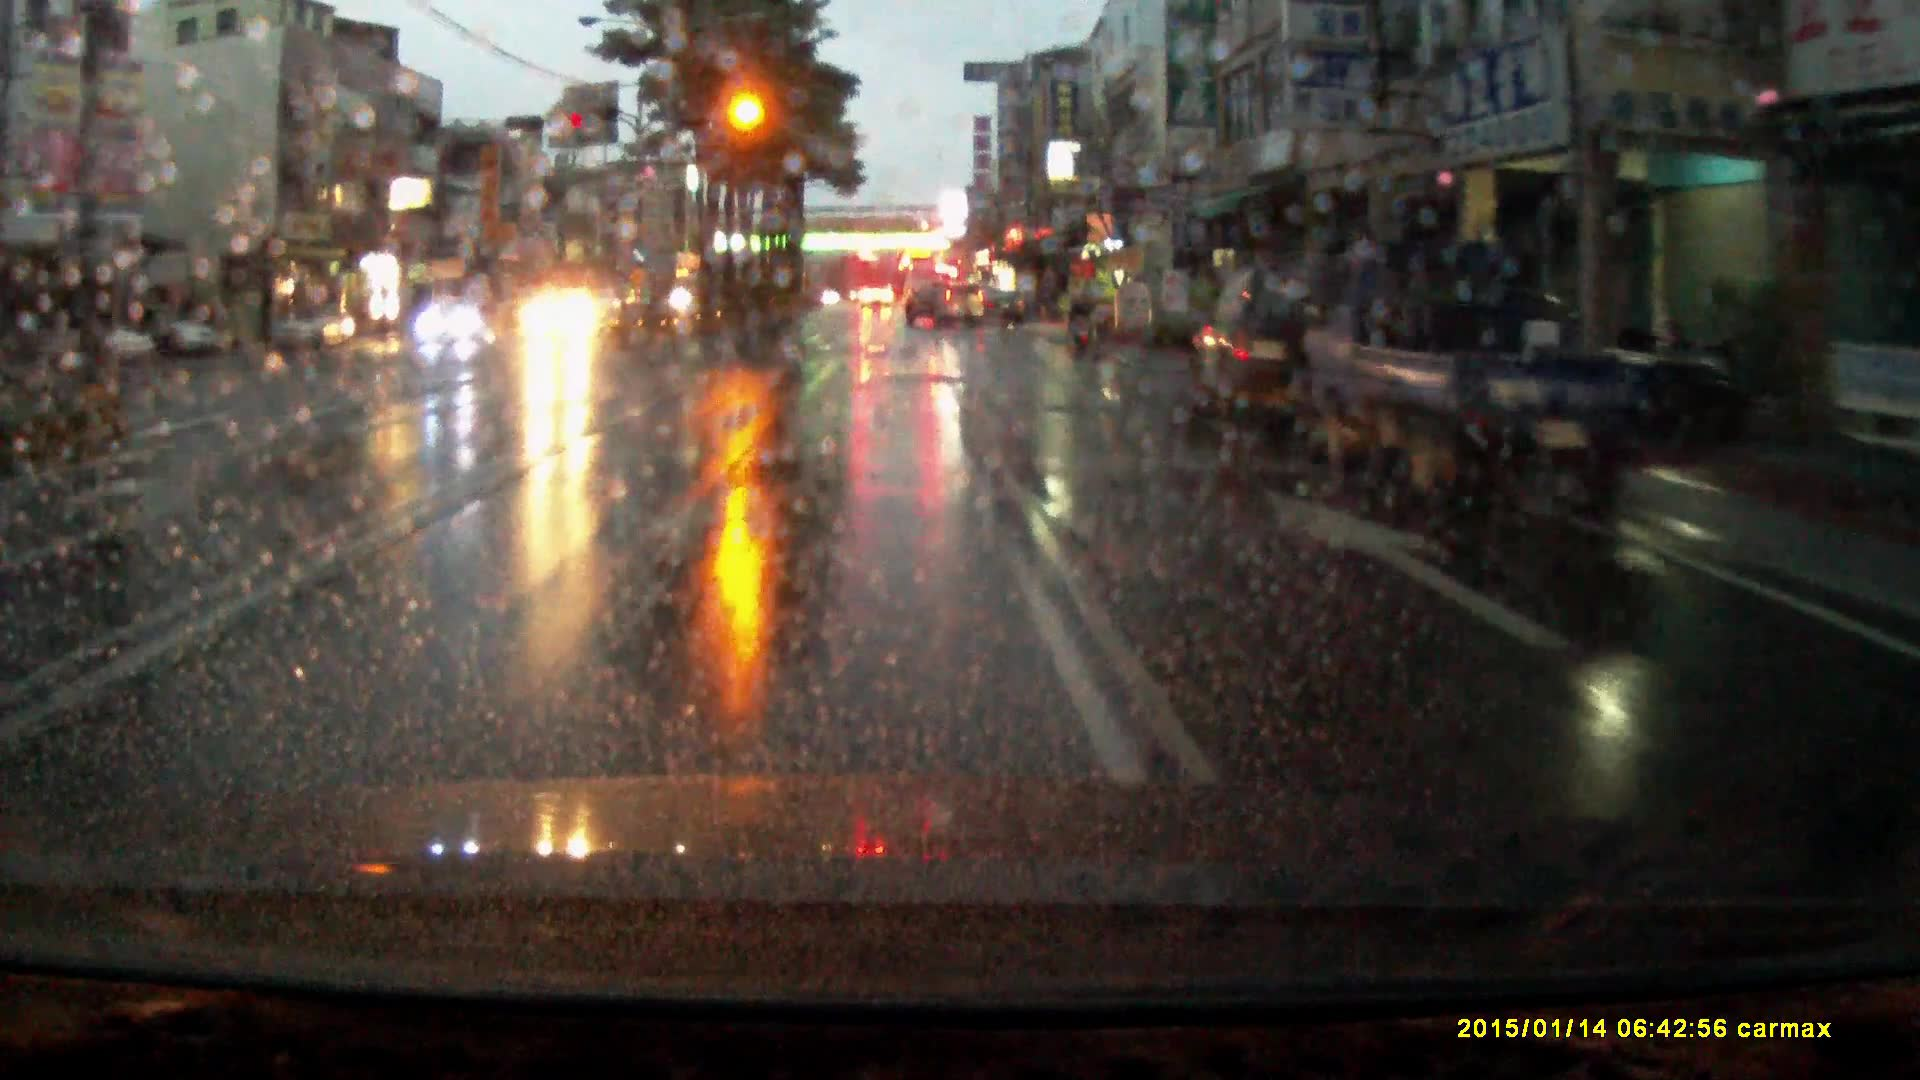vehicle: (1319, 236, 1672, 512), (1196, 258, 1332, 440), (22, 307, 136, 369), (525, 286, 607, 352), (272, 299, 357, 355), (903, 278, 985, 327), (417, 297, 488, 345), (158, 305, 222, 359), (903, 258, 942, 307), (982, 287, 1027, 327), (860, 280, 895, 309)
